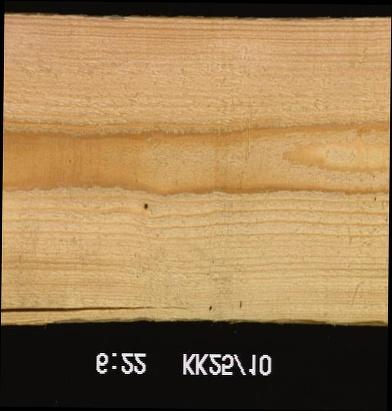small_knot: (139, 198, 152, 212)
split: (0, 301, 192, 319)
